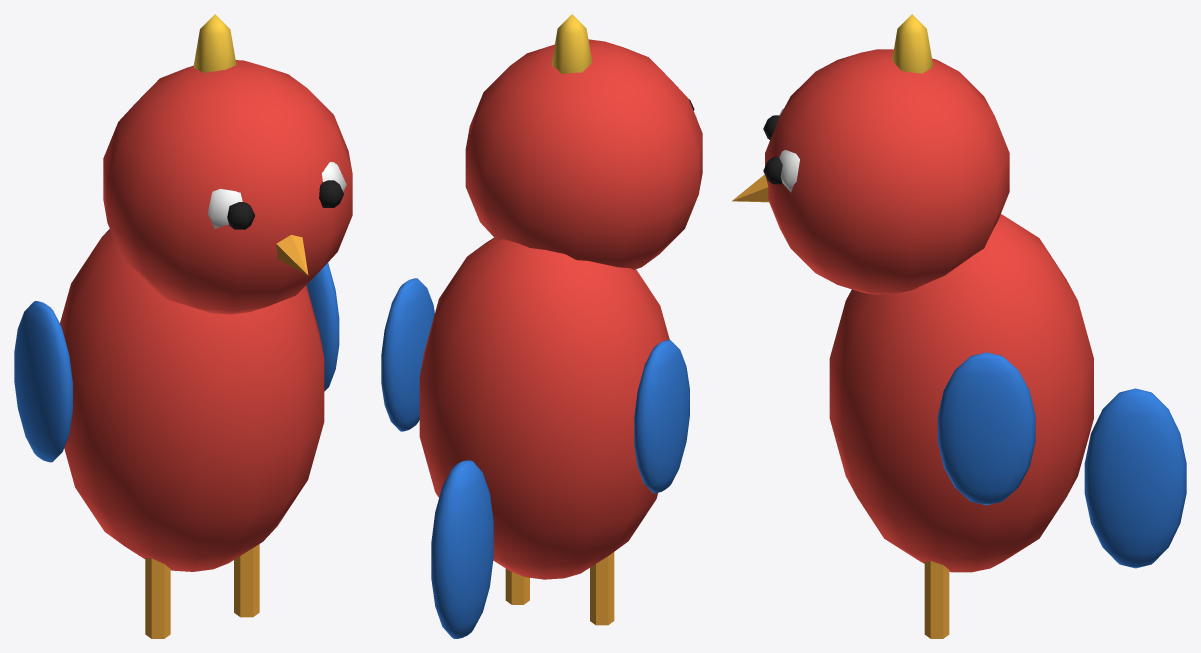
The model's file is pet_parrot.glb.
The picture shows the model from 3 angles, left to right: view 1: azimuth 30°, elevation 25°; view 2: azimuth 150°, elevation 25°; view 3: azimuth 270°, elevation 25°; orthographic projection. The views are drawn at different scales.
Parts seen in each view (by area): view 1: Body, Head, Wing, Wing.001, Leg, Crest, Leg.001, Eye, Beak, Pupil, Pupil.001; view 2: Body, Head, Tail1, Wing, Wing.001, Crest, Leg, Leg.001; view 3: Body, Head, Tail1, Wing.001, Leg.001, Crest.
Boxes of the visible parts, x1,y1,x2,y2 form: Body: (60, 229, 324, 571); Head: (103, 60, 352, 314); Wing: (14, 301, 72, 462); Wing.001: (306, 262, 339, 391); Leg: (145, 558, 170, 638); Crest: (193, 14, 236, 72); Leg.001: (234, 544, 259, 617); Eye: (207, 189, 242, 228); Beak: (276, 235, 308, 274); Pupil: (227, 202, 255, 229); Pupil.001: (319, 180, 343, 207); Body: (419, 237, 669, 579); Head: (465, 39, 702, 269); Tail1: (431, 460, 493, 638); Wing: (634, 340, 689, 493); Wing.001: (381, 278, 434, 431); Crest: (551, 14, 592, 74); Leg: (590, 552, 614, 625); Leg.001: (505, 568, 529, 604); Body: (829, 214, 1093, 572); Head: (765, 49, 1009, 294); Tail1: (1084, 388, 1186, 568); Wing.001: (937, 352, 1035, 505); Leg.001: (924, 561, 949, 638); Crest: (892, 14, 932, 73).
Bounding box in the file's own units: 0.6672 × 1.33 × 0.9164.
